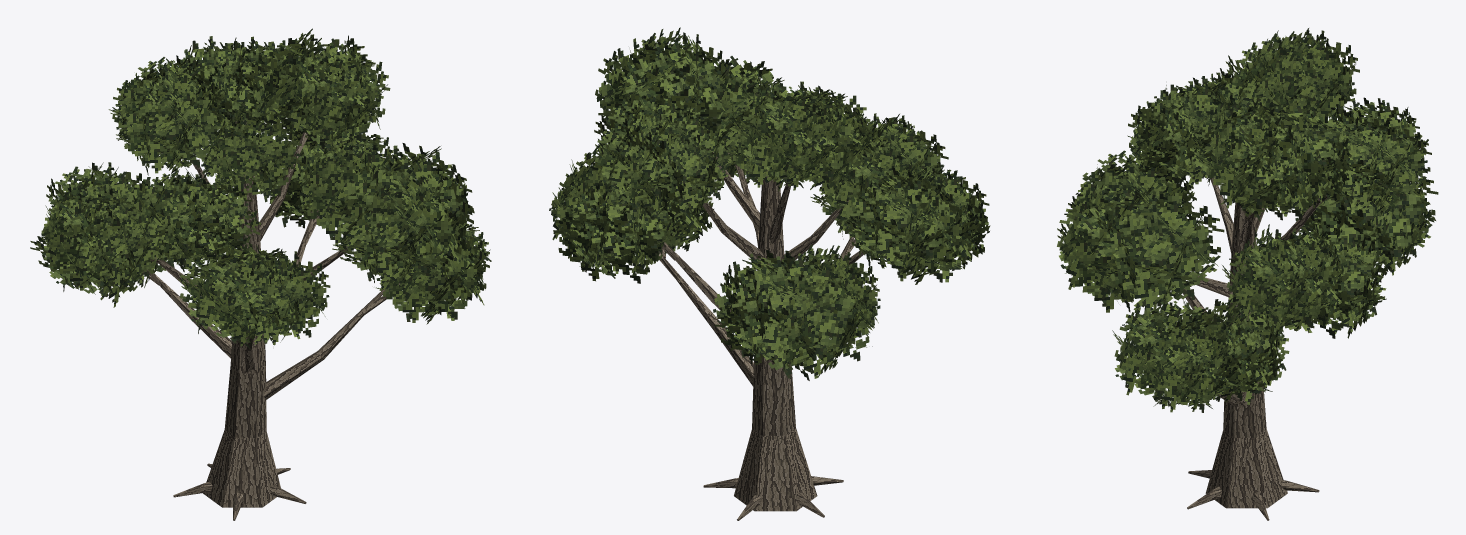
The model's file is TREE_Oak_B_LOD1.glb.
The picture shows the model from 3 angles, left to right: view 1: azimuth 30°, elevation 25°; view 2: azimuth 150°, elevation 25°; view 3: azimuth 270°, elevation 25°; orthographic projection. The views are drawn at different scales.
Visible parts, largest first — view 1: TREE_Oak_B_LOD1__Card, TREE_Oak_B_LOD1__Bark, TREE_Oak_B_LOD1__Foliage; view 2: TREE_Oak_B_LOD1__Card, TREE_Oak_B_LOD1__Bark, TREE_Oak_B_LOD1__Foliage; view 3: TREE_Oak_B_LOD1__Card, TREE_Oak_B_LOD1__Bark, TREE_Oak_B_LOD1__Foliage.
Part boxes in pixels (x1,y1,x2,y2): TREE_Oak_B_LOD1__Card: (30,28,491,349); TREE_Oak_B_LOD1__Bark: (143,117,399,520); TREE_Oak_B_LOD1__Foliage: (77,72,455,314); TREE_Oak_B_LOD1__Card: (549,27,990,380); TREE_Oak_B_LOD1__Bark: (656,139,866,520); TREE_Oak_B_LOD1__Foliage: (595,78,954,339); TREE_Oak_B_LOD1__Card: (1057,28,1438,412); TREE_Oak_B_LOD1__Bark: (1183,177,1330,520); TREE_Oak_B_LOD1__Foliage: (1124,64,1393,382).
Size of the model in its own units: 12.47 by 11.54 by 9.97.
Materials: 3 (3 with a texture image).
